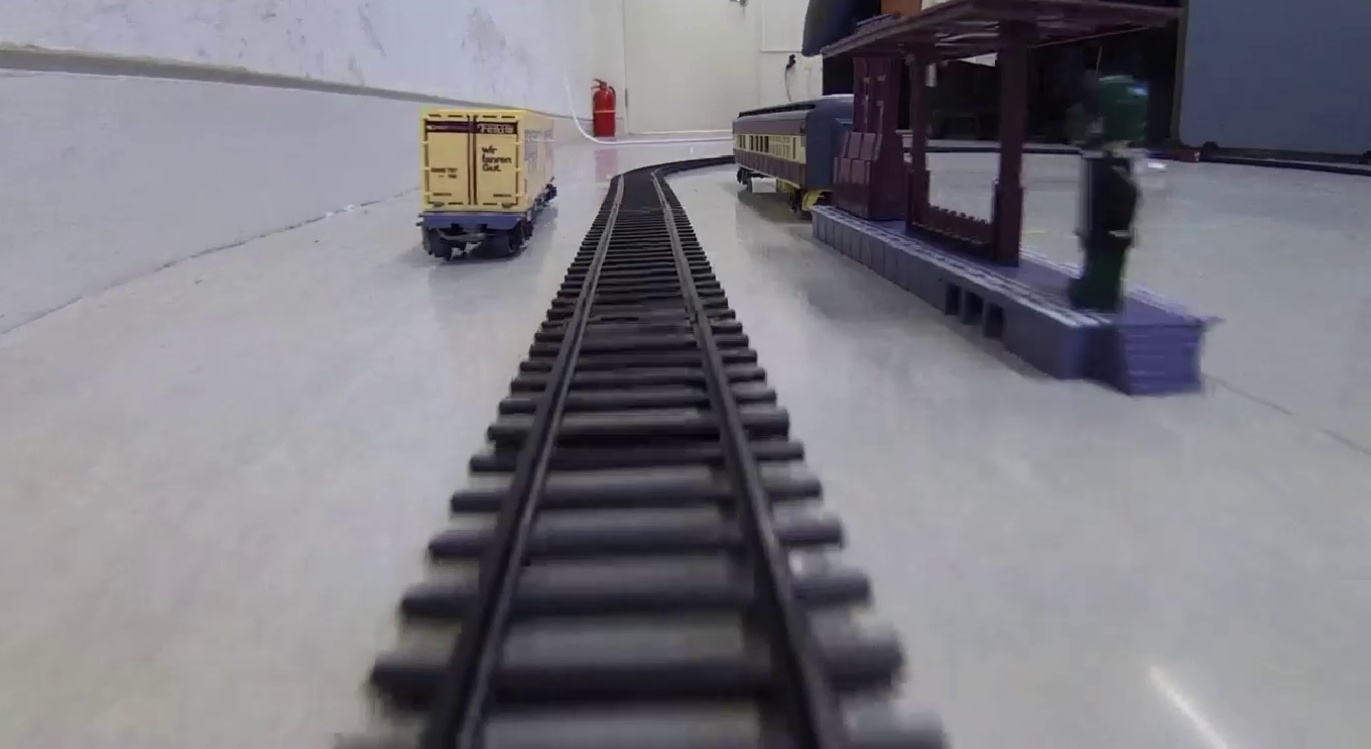people: (1069, 71, 1146, 314)
